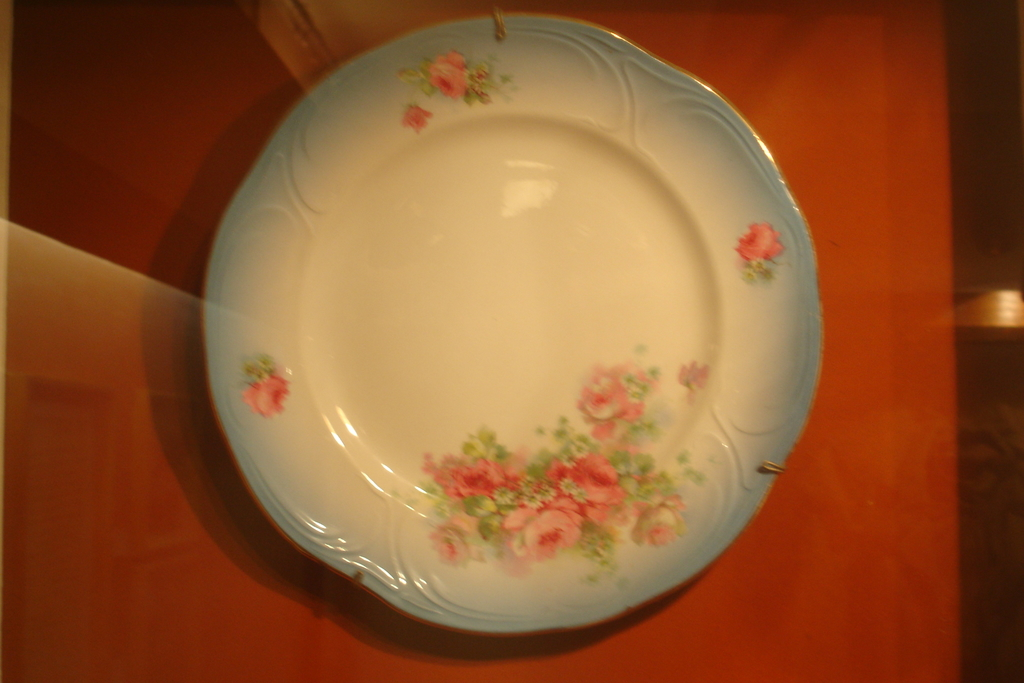plate: (199, 8, 824, 633)
